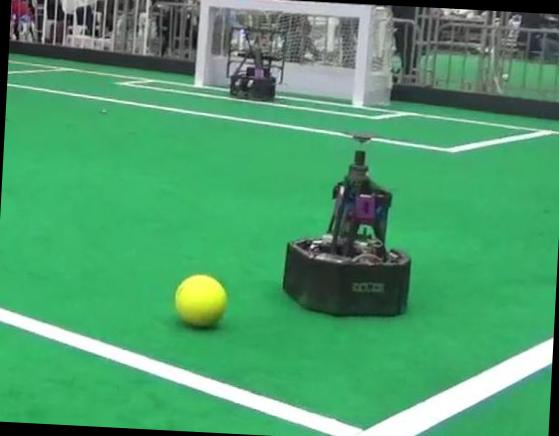ball: (174, 274, 226, 326)
goal: (352, 7, 371, 106), (194, 0, 208, 86)
robot: (283, 150, 411, 316), (227, 26, 285, 101)
